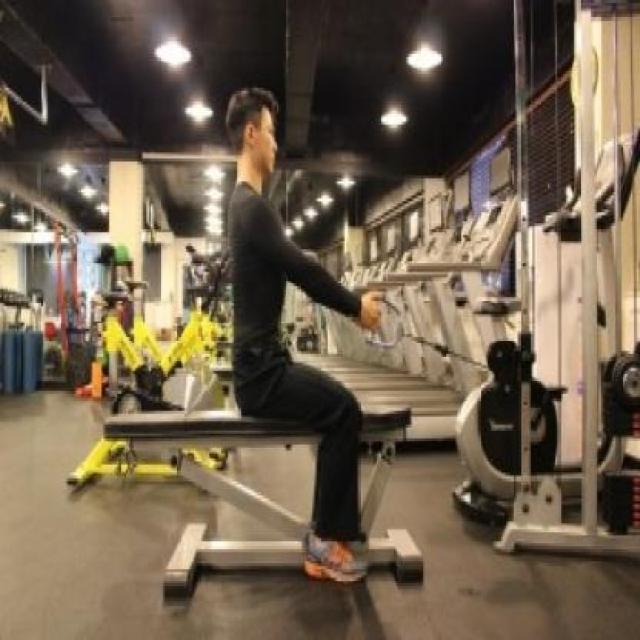Seated Cable Rows: (112, 75, 637, 640)
